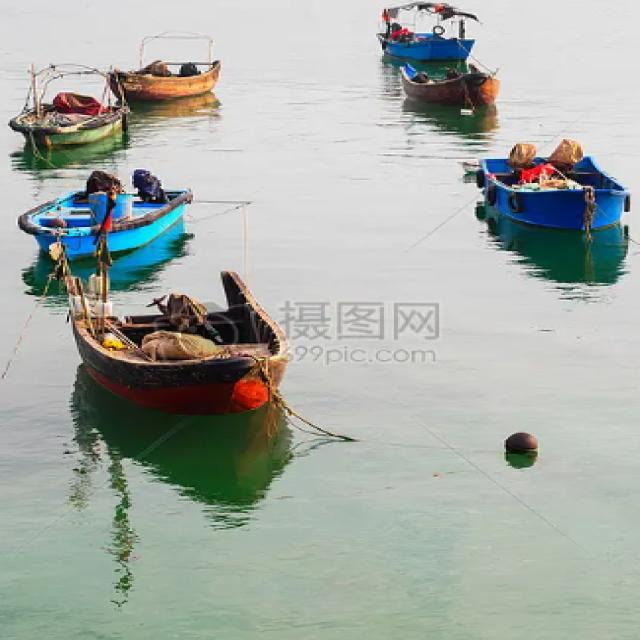fishing boat: (54, 272, 284, 418), (472, 136, 632, 237), (20, 167, 183, 259), (16, 48, 129, 145), (104, 17, 223, 102), (394, 50, 504, 108), (364, 0, 486, 50)
